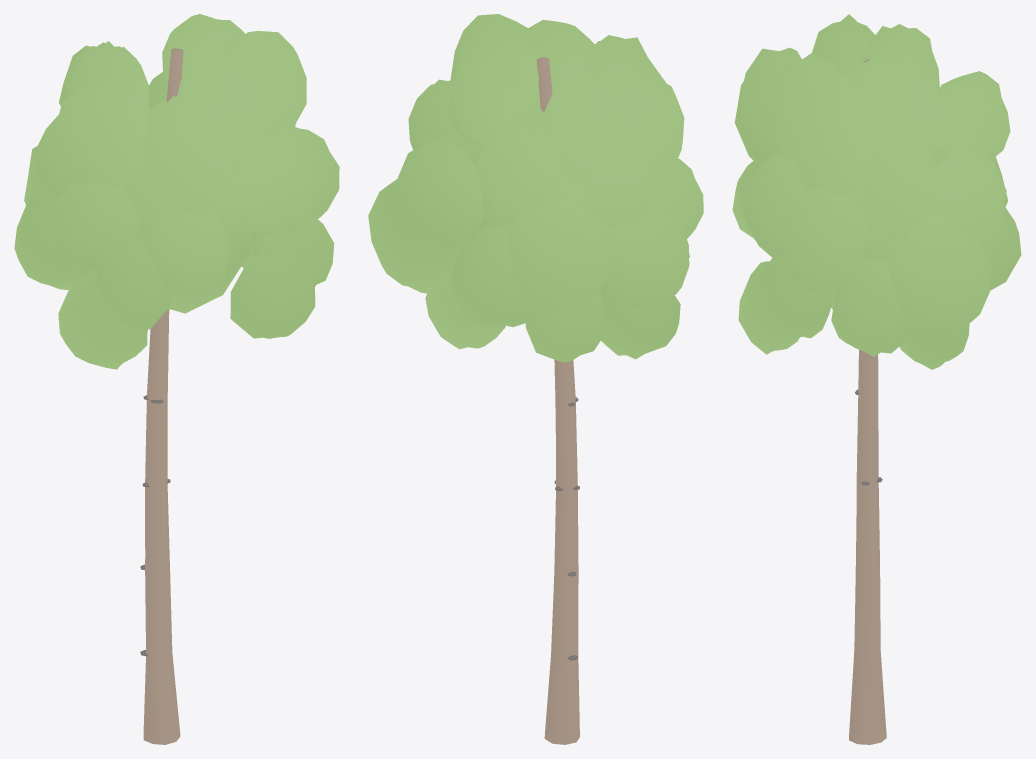
The model's file is Blender_Aspen_2.glb.
3 renders of one model, left to right at view 1: azimuth 30°, elevation 25°; view 2: azimuth 150°, elevation 25°; view 3: azimuth 270°, elevation 25°, orthographic.
Visible parts, largest first — view 1: Blender_Aspen_2; view 2: Blender_Aspen_2; view 3: Blender_Aspen_2.
Boxes of the visible parts, left/top/right/bottom form: Blender_Aspen_2: left=14, top=14, right=339, bottom=744; Blender_Aspen_2: left=368, top=14, right=703, bottom=744; Blender_Aspen_2: left=732, top=14, right=1021, bottom=744.
Bounding box in the file's own units: 5.4 × 12.55 × 4.68.
